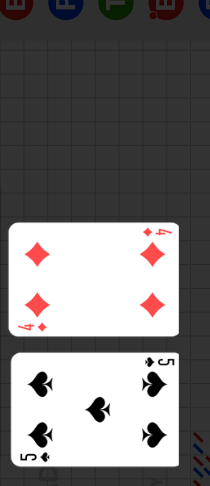4D: (141, 226, 172, 238)
5S: (19, 451, 52, 463)
